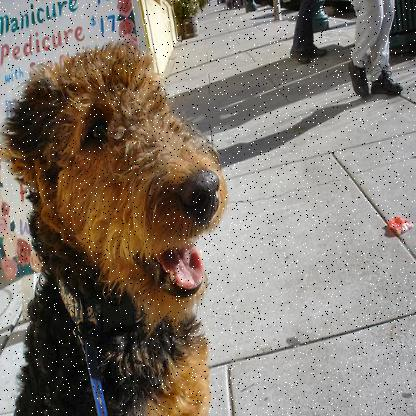dog: (7, 33, 237, 413)
